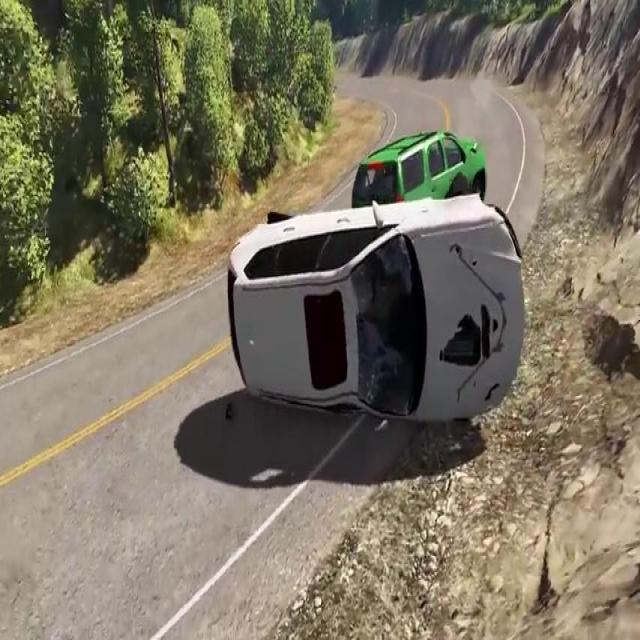severe: (223, 191, 530, 437)
